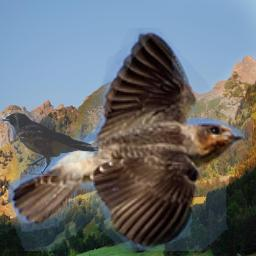Crow: (0, 110, 100, 176)
Swallow: (8, 28, 252, 251)
